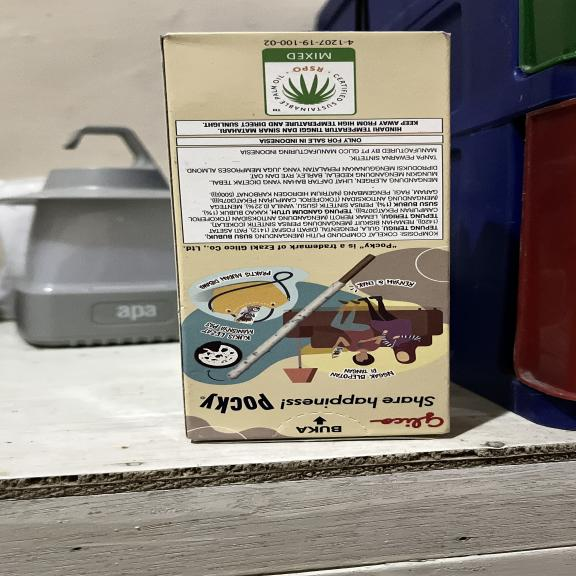Kertas: (157, 31, 455, 444)
